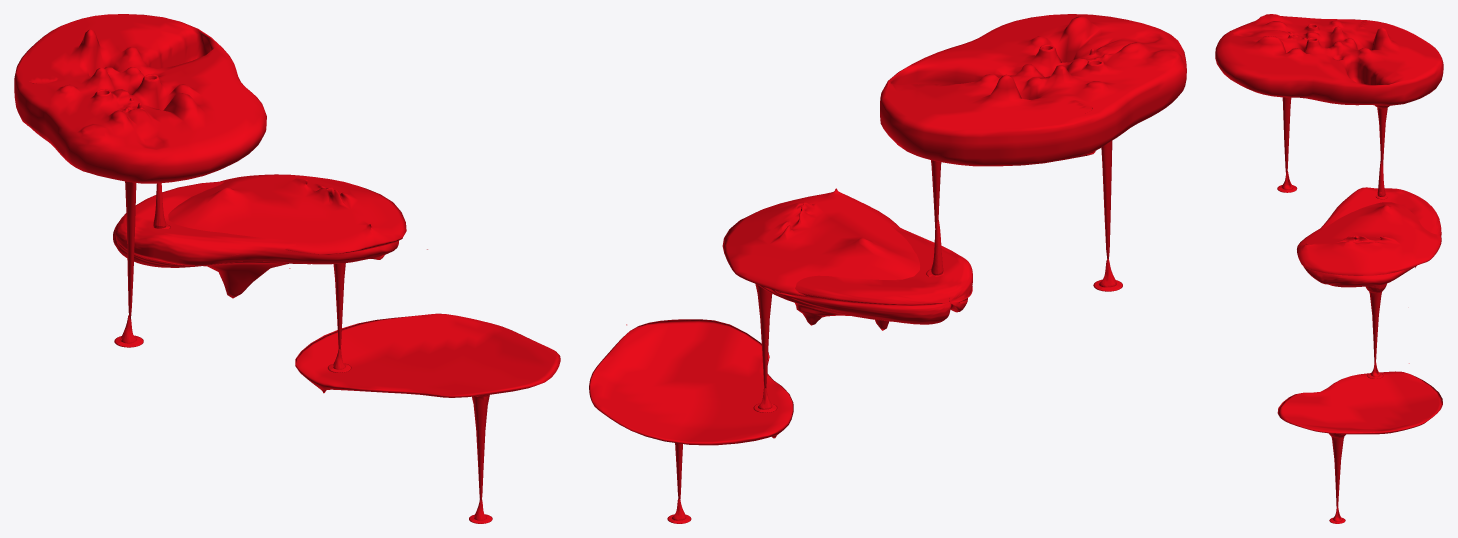
Rendered from terrain_grosso_columns.glb.
3 views of the same model, side by side, from view 1: azimuth 30°, elevation 25°; view 2: azimuth 150°, elevation 25°; view 3: azimuth 270°, elevation 25° (orthographic). The views are drawn at different scales.
Visible parts, largest first — view 1: Sphere.002; view 2: Sphere.002; view 3: Sphere.002.
Part boxes in pixels (x1,y1,x2,y2): Sphere.002: (14, 14, 560, 523); Sphere.002: (589, 14, 1186, 523); Sphere.002: (1215, 14, 1443, 523).
Size of the model in its own units: 16.92 by 17.34 by 9.54.
